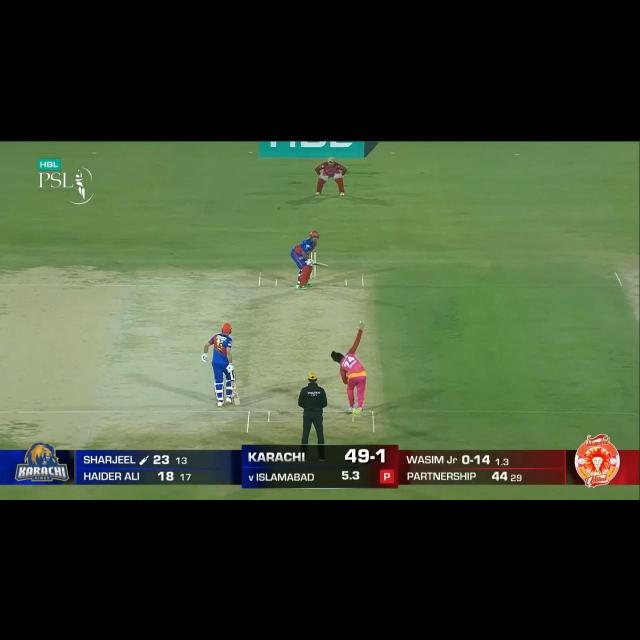bat: (230, 376, 243, 406), (311, 260, 332, 271)
toe: (232, 397, 241, 405), (323, 264, 330, 270)
